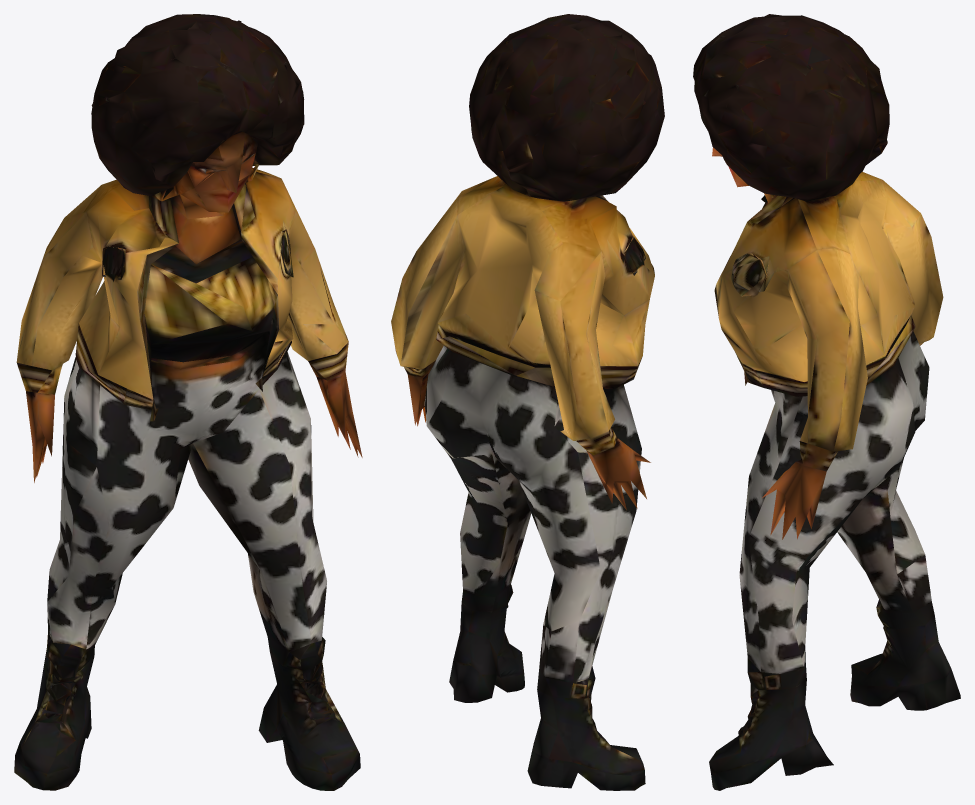
The model's file is fan04.glb.
3 views of the same model, side by side, from view 1: azimuth 30°, elevation 25°; view 2: azimuth 150°, elevation 25°; view 3: azimuth 270°, elevation 25° (orthographic). The views are drawn at different scales.
Visible parts, largest first — view 1: material_proxy; view 2: material_proxy; view 3: material_proxy.
Boxes of the visible parts, <box> form: material_proxy: <box>14,14,362,790</box>; material_proxy: <box>391,14,664,790</box>; material_proxy: <box>693,14,960,790</box>.
Size of the model in its own units: 0.4433 by 1.11 by 0.3737.
1 material, 1 textured.
